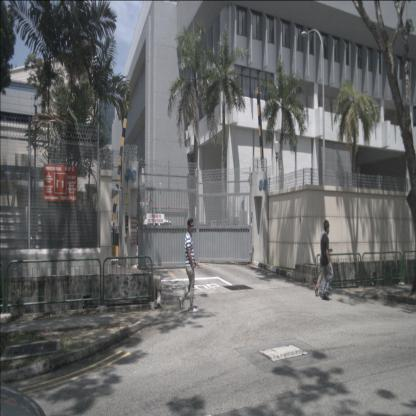human-pedestrian-adult: (179, 218, 198, 313), (314, 220, 333, 297), (320, 221, 334, 299)
